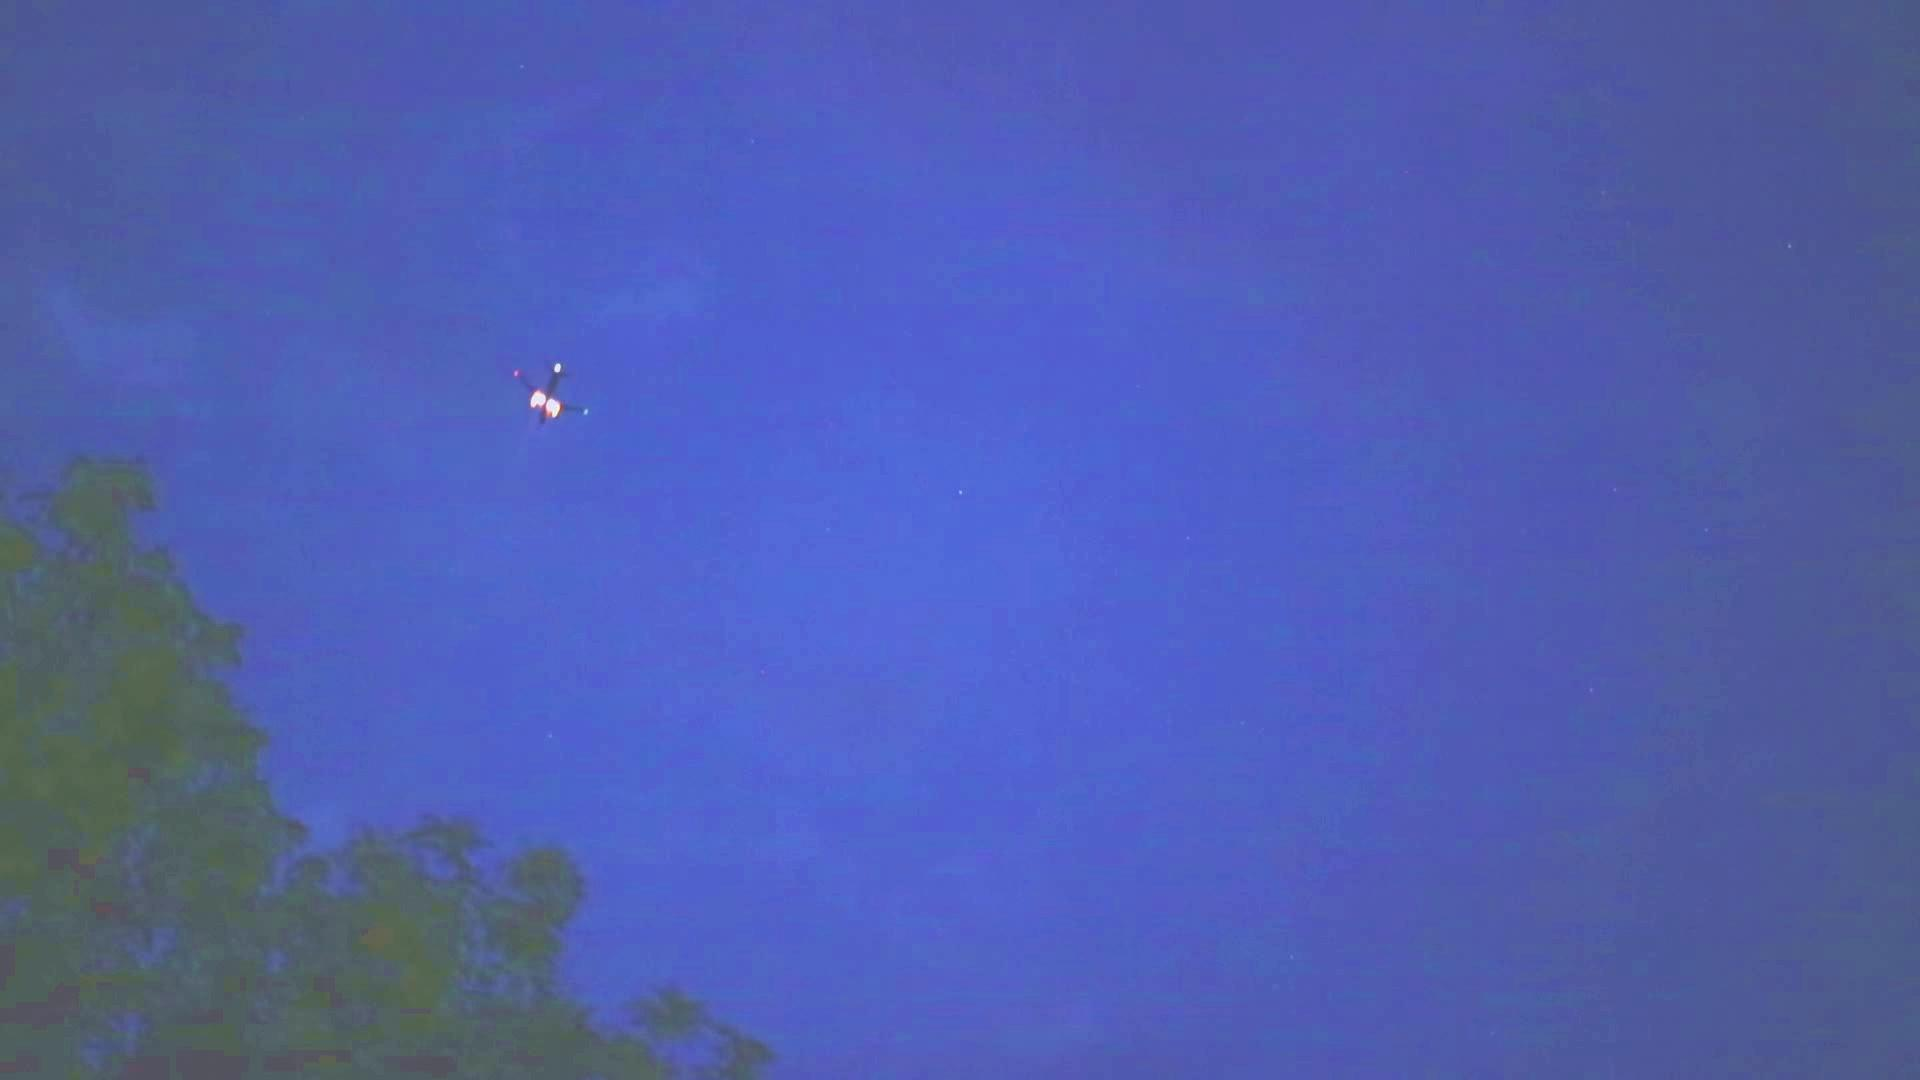Plane: (485, 348, 615, 444)
